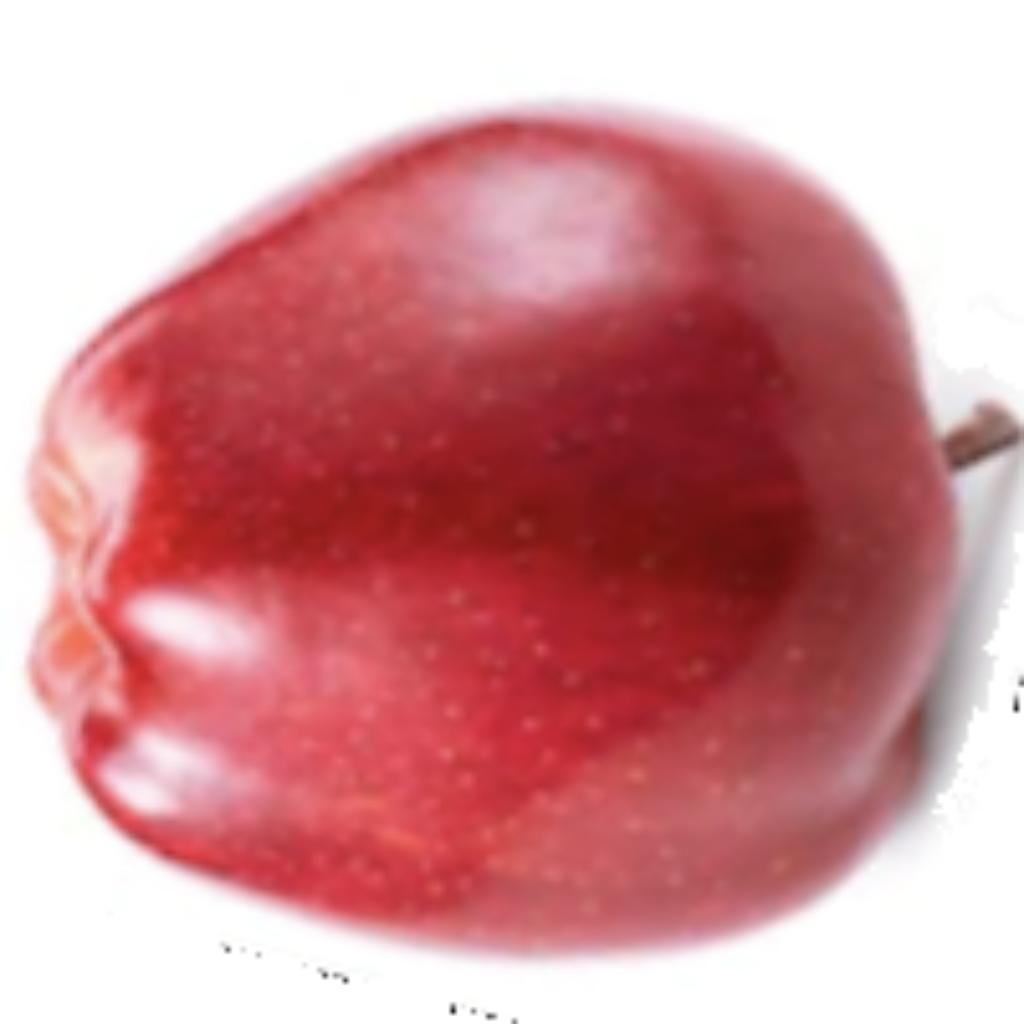apple: (10, 87, 1019, 973)
